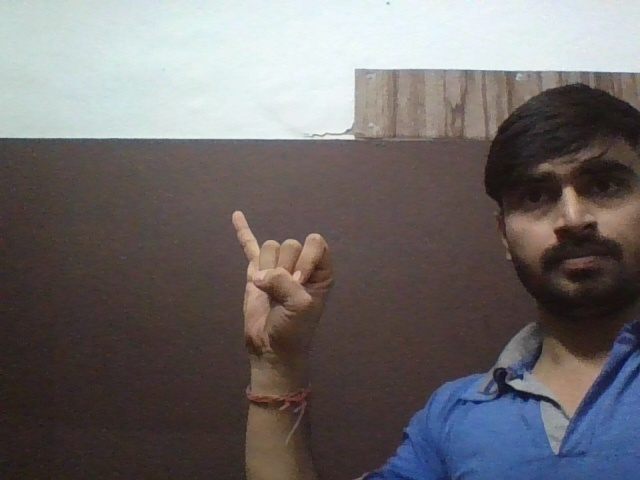I: (217, 204, 348, 362)
